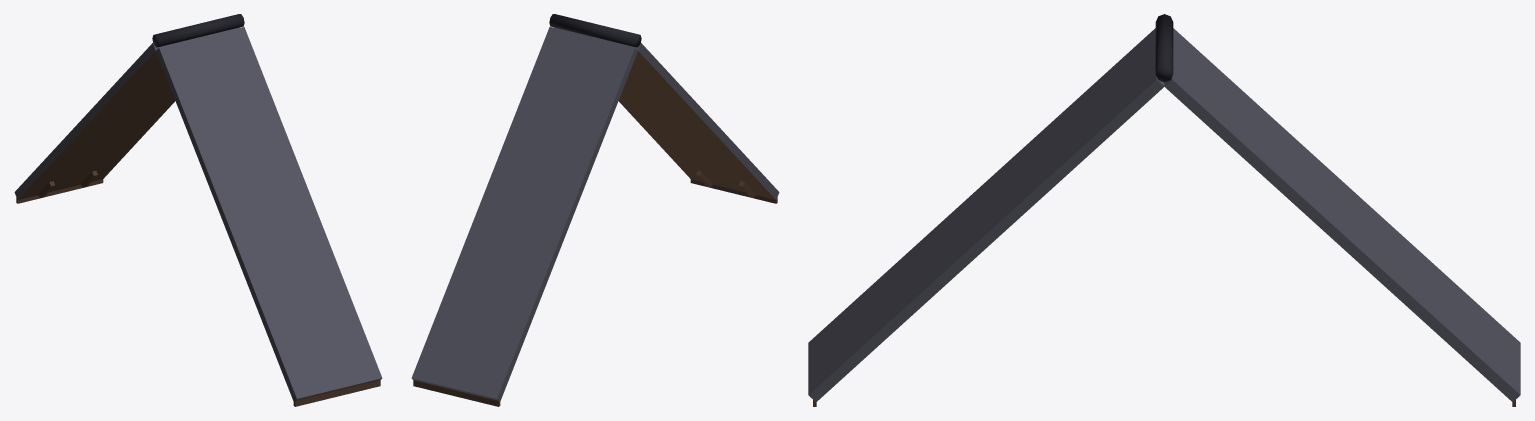
The model's file is kit_stone_slate_w5.glb.
The picture shows the model from 3 angles, left to right: view 1: azimuth 30°, elevation 25°; view 2: azimuth 150°, elevation 25°; view 3: azimuth 270°, elevation 25°; orthographic projection. The views are drawn at different scales.
Parts seen in each view (by area): view 1: kit_stone_slate_w5; view 2: kit_stone_slate_w5; view 3: kit_stone_slate_w5.
Part boxes in pixels (left/top/right/bottom): kit_stone_slate_w5: left=14, top=14, right=382, bottom=406; kit_stone_slate_w5: left=411, top=14, right=779, bottom=406; kit_stone_slate_w5: left=808, top=14, right=1520, bottom=406.
Size of the model in its own units: 1 by 3.02 by 5.73.
